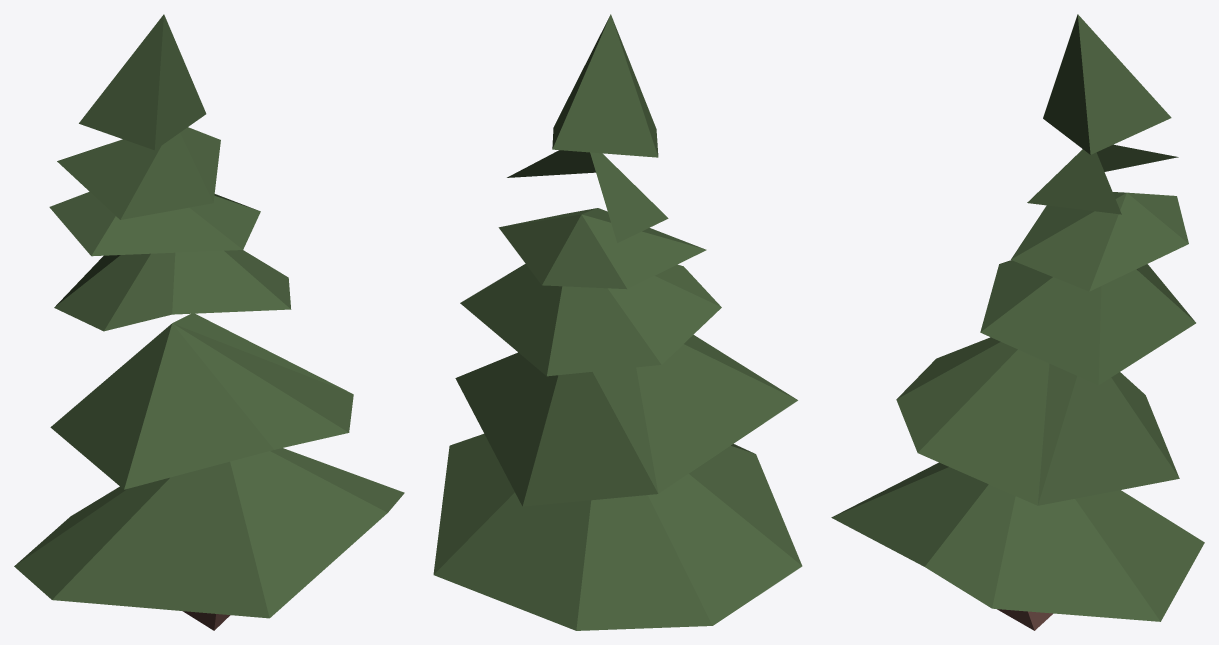
Rendered from qn_pine_c_lod.glb.
The picture shows the model from 3 angles, left to right: view 1: azimuth 30°, elevation 25°; view 2: azimuth 150°, elevation 25°; view 3: azimuth 270°, elevation 25°; orthographic projection. The views are drawn at different scales.
Visible parts, largest first — view 1: qn_pine_c_lod; view 2: qn_pine_c_lod; view 3: qn_pine_c_lod.
Boxes of the visible parts, x1=… form: qn_pine_c_lod: x1=14, y1=14, x2=404, y2=630; qn_pine_c_lod: x1=433, y1=14, x2=802, y2=630; qn_pine_c_lod: x1=831, y1=14, x2=1204, y2=630.
Bounding box in the file's own units: 2.05 × 3.3 × 1.9.
